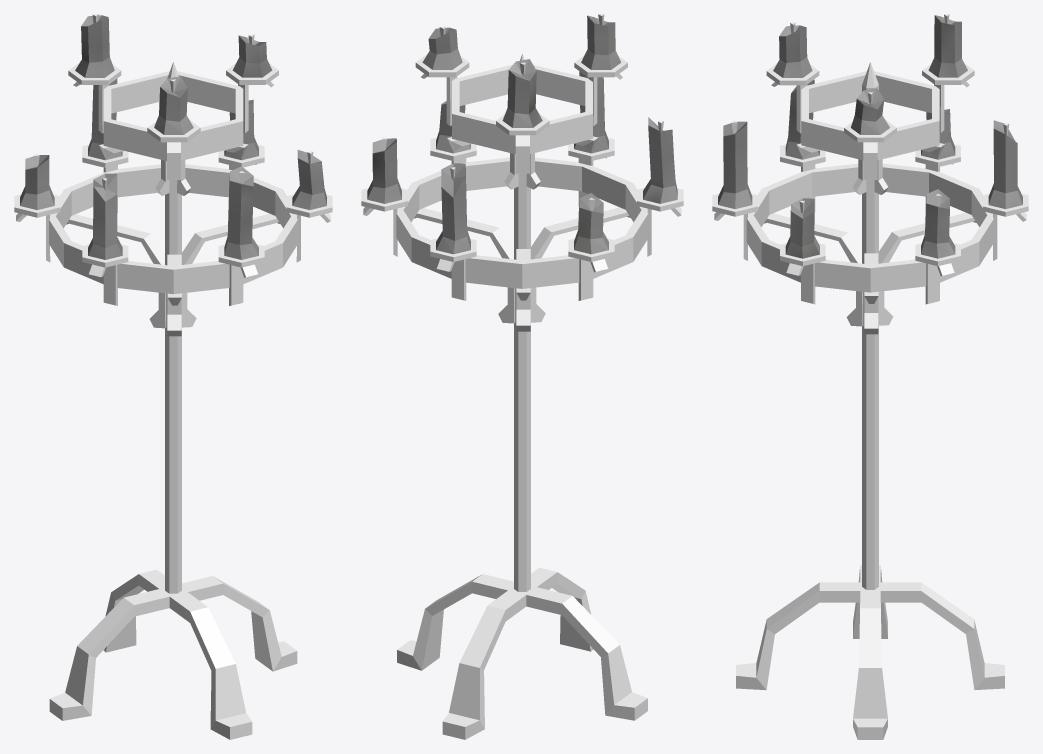
File: CanStand.fbx
3 renders of one model, left to right at view 1: azimuth 30°, elevation 25°; view 2: azimuth 150°, elevation 25°; view 3: azimuth 270°, elevation 25°, orthographic.
Parts seen in each view (by area): view 1: CanStand; view 2: CanStand; view 3: CanStand.
Part boxes in pixels (x1,y1,x2,y2): CanStand: (14,14,332,739); CanStand: (361,14,683,739); CanStand: (712,14,1028,739).
Size of the model in its own units: 303 by 757 by 334.
Materials: 1 (1 with a texture image).
